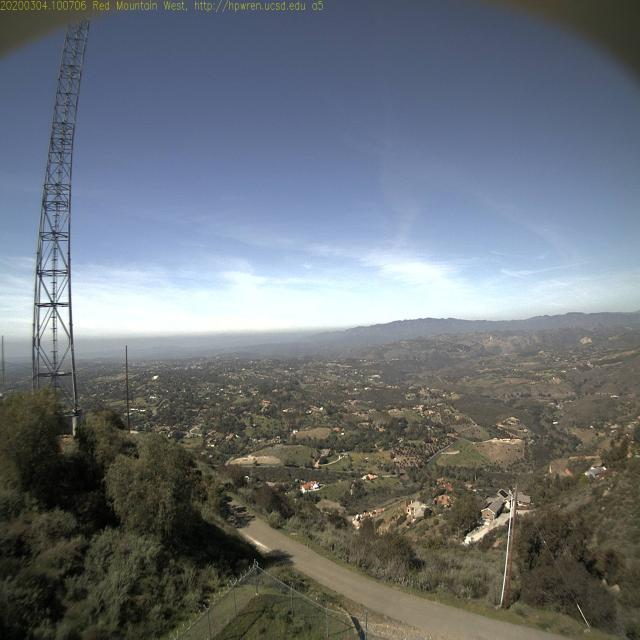smoke: (496, 332, 512, 360)
